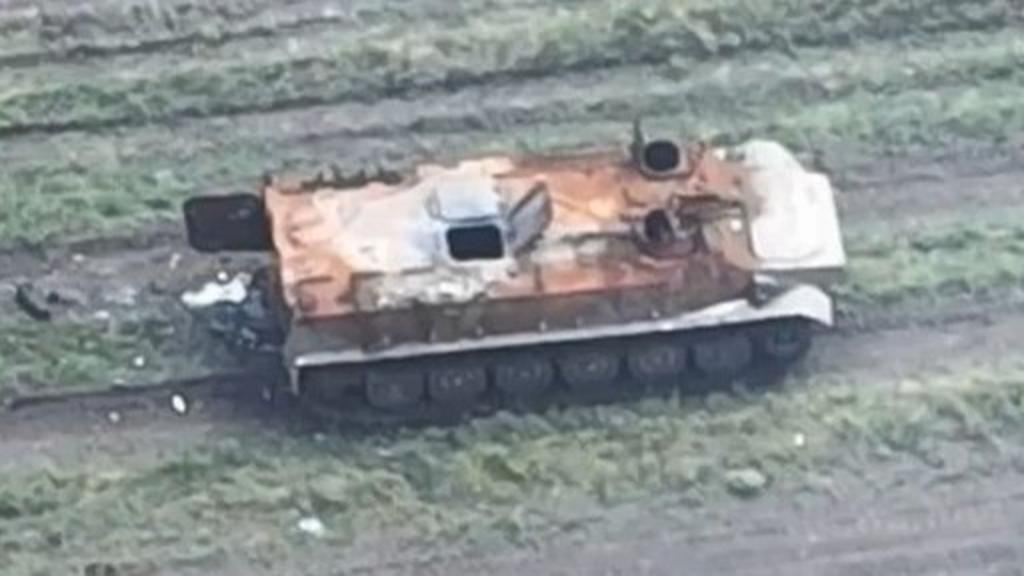APC-IFV: (146, 112, 848, 422)
